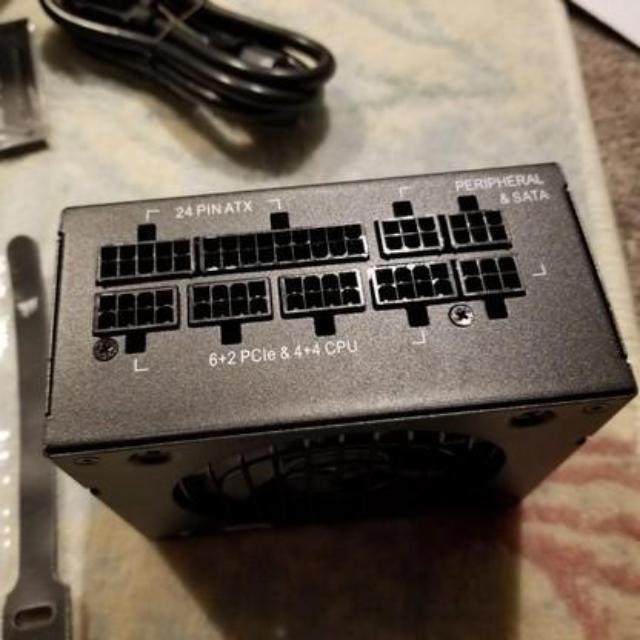PSU: (34, 158, 640, 564)
